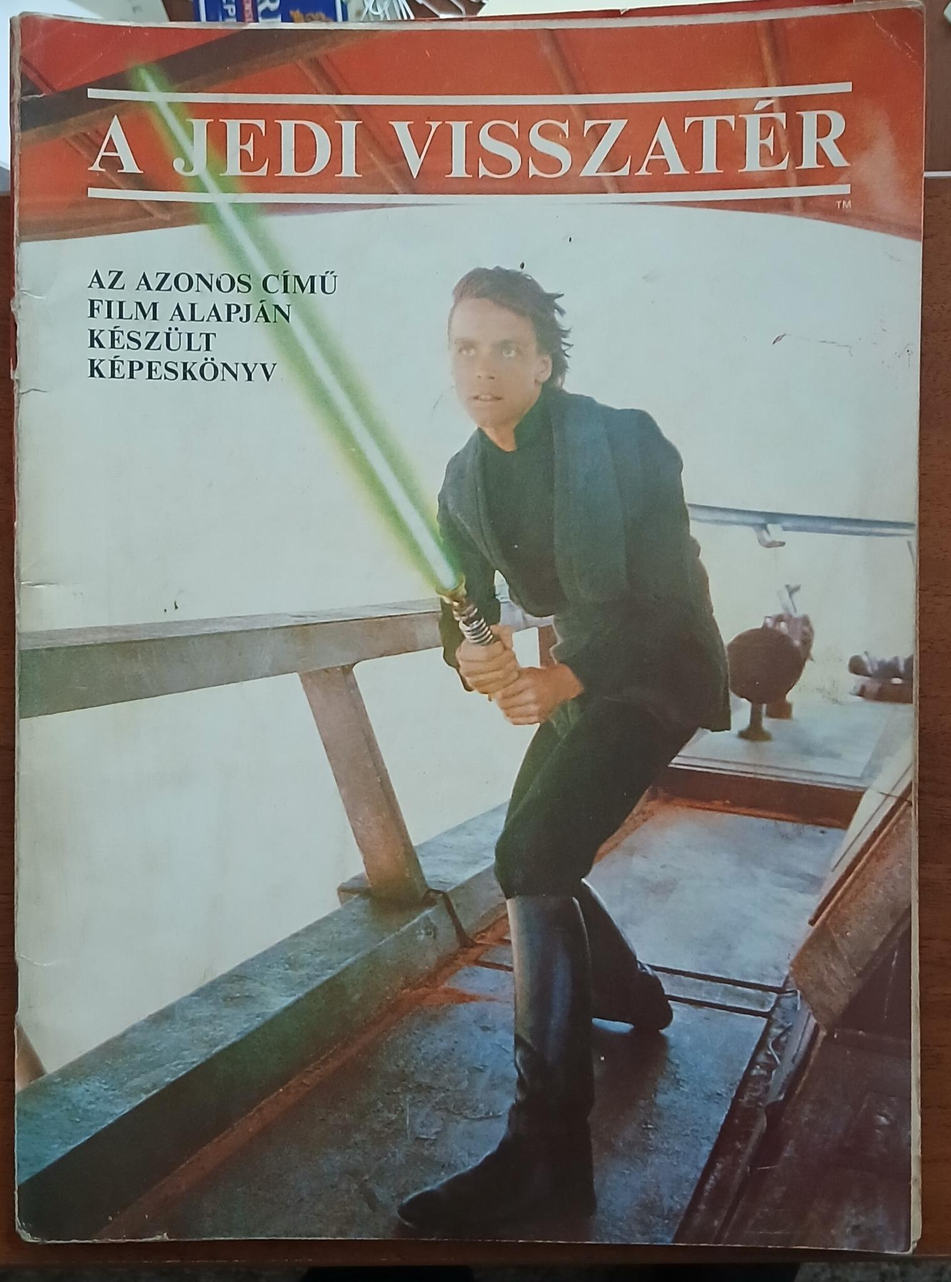comic: (14, 0, 922, 1251)
